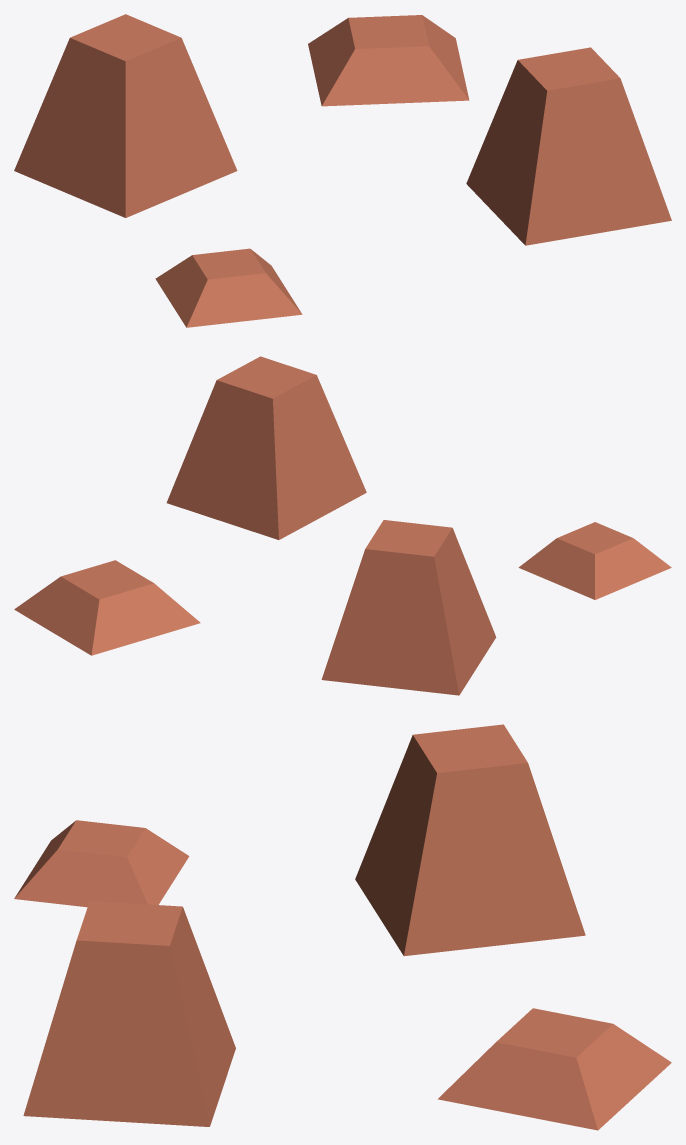
File: rocks_smallB.glb
The picture shows the model from 3 angles, top to bottom: view 1: azimuth 30°, elevation 25°; view 2: azimuth 150°, elevation 25°; view 3: azimuth 270°, elevation 25°; orthographic projection. The views are drawn at different scales.
Parts seen in each view (by area): view 1: rocks_smallB; view 2: rocks_smallB; view 3: rocks_smallB.
Boxes of the visible parts, bbox=[...] form: rocks_smallB: bbox=[14, 14, 671, 327]; rocks_smallB: bbox=[14, 356, 671, 695]; rocks_smallB: bbox=[14, 724, 671, 1130].
Size of the model in its own units: 1.02 by 0.2611 by 0.9811.
